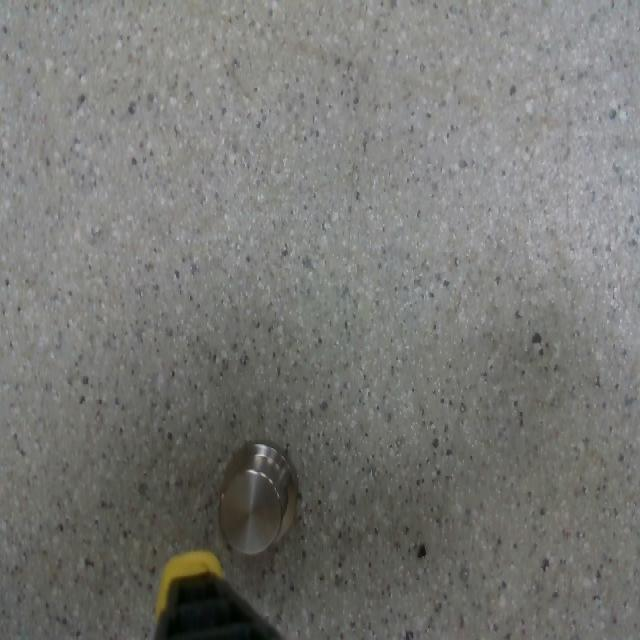sensor: (217, 442, 297, 556)
